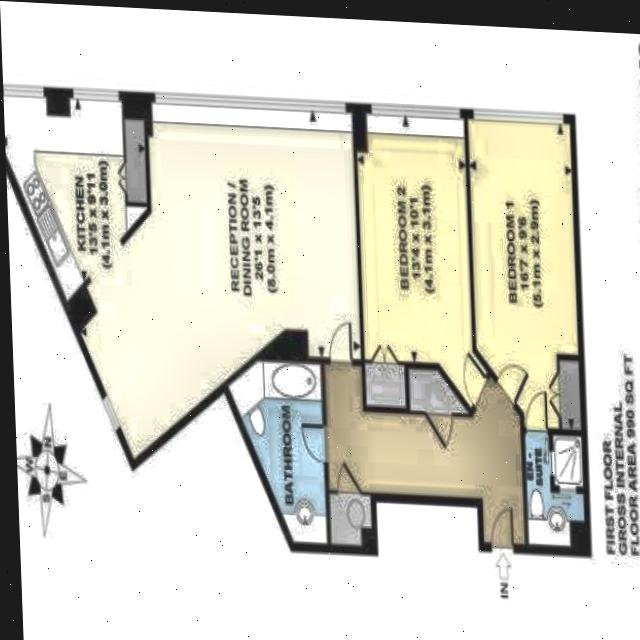room: (3, 81, 364, 461), (342, 104, 490, 417), (311, 362, 538, 544), (467, 114, 582, 431), (228, 358, 327, 548), (524, 430, 586, 547), (406, 369, 472, 413), (329, 490, 373, 545), (364, 360, 405, 408), (125, 118, 147, 203), (559, 359, 581, 430)
